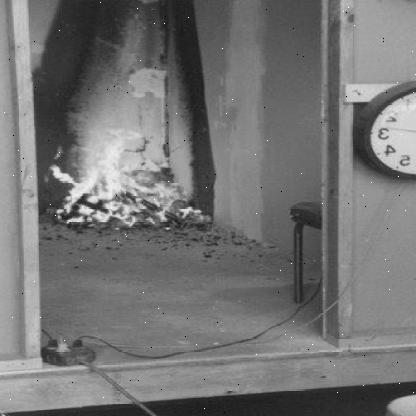fire: (44, 128, 204, 224)
